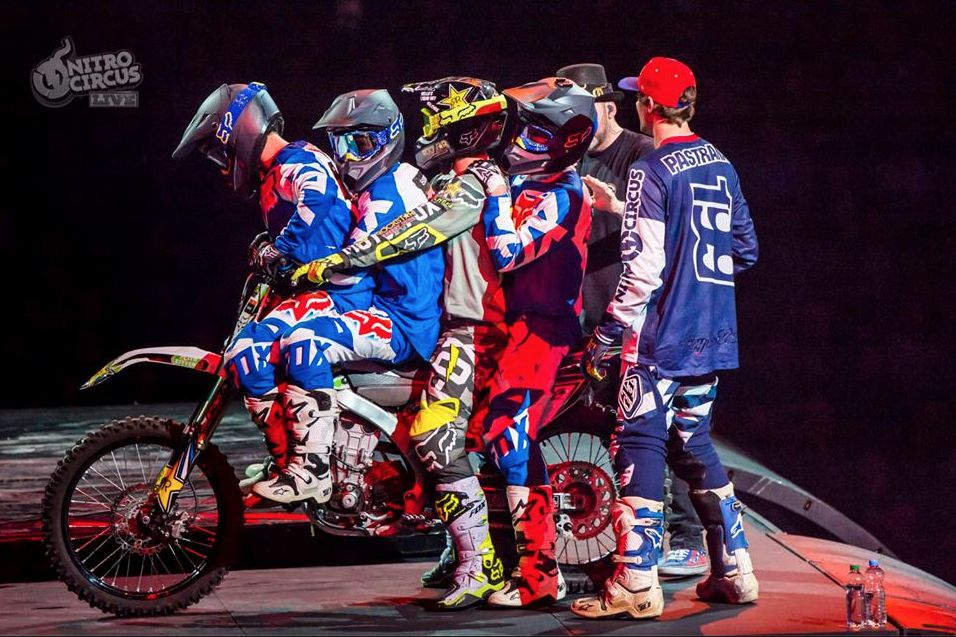helmet: (159, 69, 294, 203)
